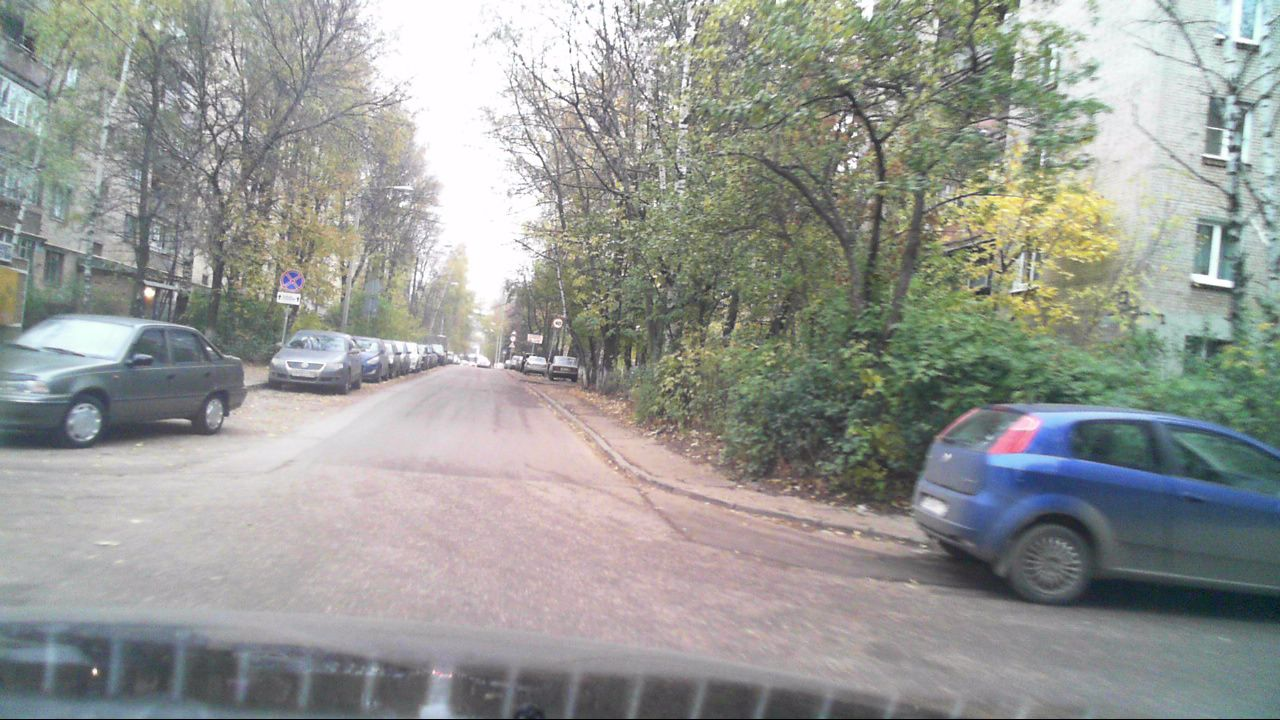No Parking: (280, 270, 304, 293)
